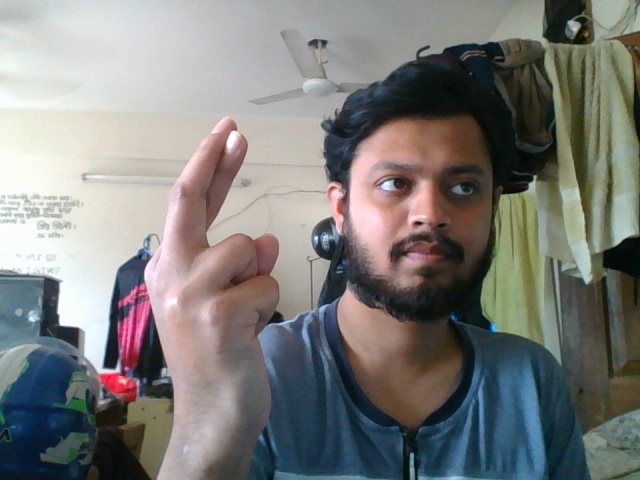r: (139, 111, 288, 480)
